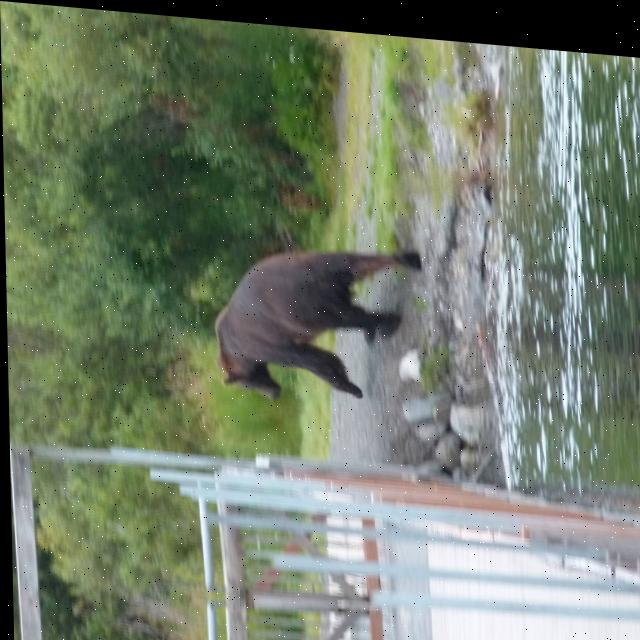bear face: (212, 233, 423, 403)
